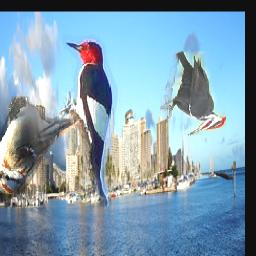Sparrow: (0, 98, 89, 195)
Woodpecker: (59, 28, 123, 208), (160, 51, 226, 135)
